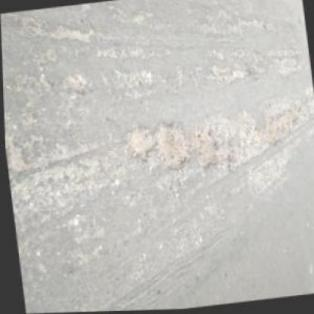Hueco: (244, 109, 298, 152), (152, 117, 192, 175), (189, 122, 219, 173), (46, 20, 97, 50), (119, 124, 156, 163), (4, 139, 29, 176), (62, 70, 89, 95)
